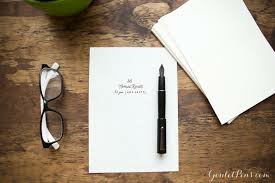pen: (159, 63, 170, 154)
